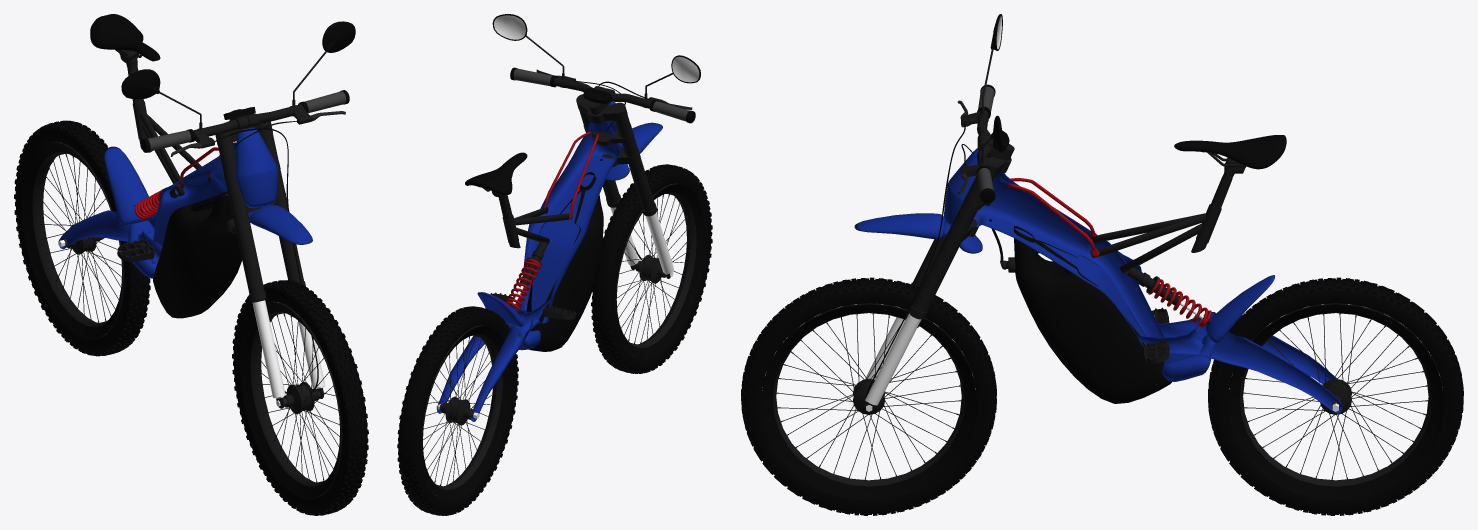
Rendered from electric-moped.glb.
The picture shows the model from 3 angles, left to right: view 1: azimuth 30°, elevation 25°; view 2: azimuth 150°, elevation 25°; view 3: azimuth 270°, elevation 25°; orthographic projection. The views are drawn at different scales.
Parts seen in each view (by area): view 1: Object_20, Object_16, Object_15, Object_19, Object_14, Object_21, Object_22, Object_5, Object_32; view 2: Object_20, Object_16, Object_19, Object_15, Object_14, Object_21, Object_32, Object_6, Object_22, Object_5; view 3: Object_20, Object_19, Object_16, Object_15, Object_14, Object_21, Object_22, Object_32.
Part boxes in pixels (<box>): Object_20: <box>121,21,368,515</box>; Object_16: <box>59,127,312,278</box>; Object_15: <box>32,49,341,496</box>; Object_19: <box>14,107,255,356</box>; Object_14: <box>117,50,339,482</box>; Object_21: <box>90,14,349,391</box>; Object_22: <box>58,205,325,406</box>; Object_5: <box>147,91,346,151</box>; Object_32: <box>134,142,235,219</box>; Object_20: <box>492,14,712,373</box>; Object_16: <box>437,101,662,421</box>; Object_19: <box>397,88,611,515</box>; Object_15: <box>421,35,696,498</box>; Object_14: <box>490,76,690,343</box>; Object_21: <box>465,67,695,260</box>; Object_32: <box>505,131,598,311</box>; Object_6: <box>494,15,699,82</box>; Object_22: <box>436,207,673,418</box>; Object_5: <box>513,68,689,121</box>; Object_20: <box>741,14,1172,515</box>; Object_19: <box>993,130,1463,515</box>; Object_16: <box>854,148,1343,413</box>; Object_15: <box>761,48,1443,486</box>; Object_14: <box>776,112,1245,480</box>; Object_21: <box>864,84,1286,397</box>; Object_22: <box>865,301,1338,411</box>; Object_32: <box>1008,178,1211,327</box>.
Bounding box in the file's own units: 1.03 × 1.75 × 2.57.
